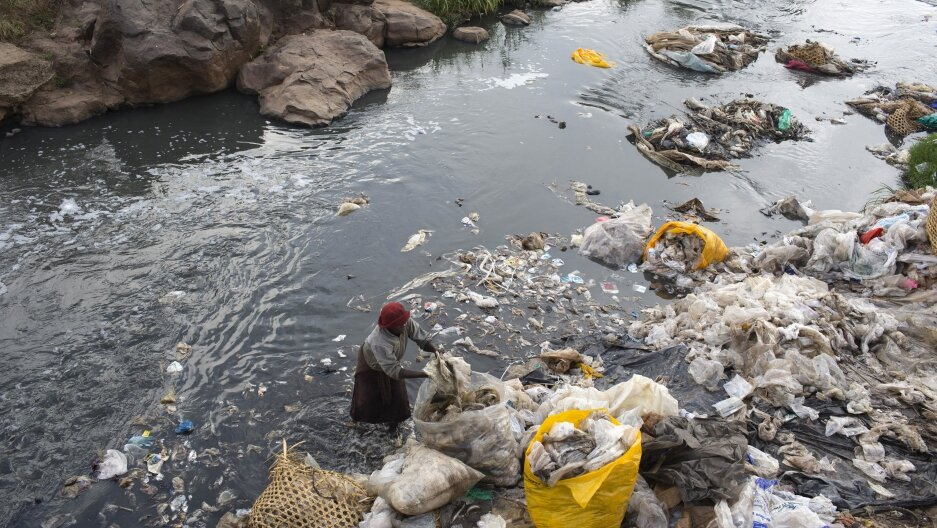plastic_bagwdw: (494, 395, 652, 528)
